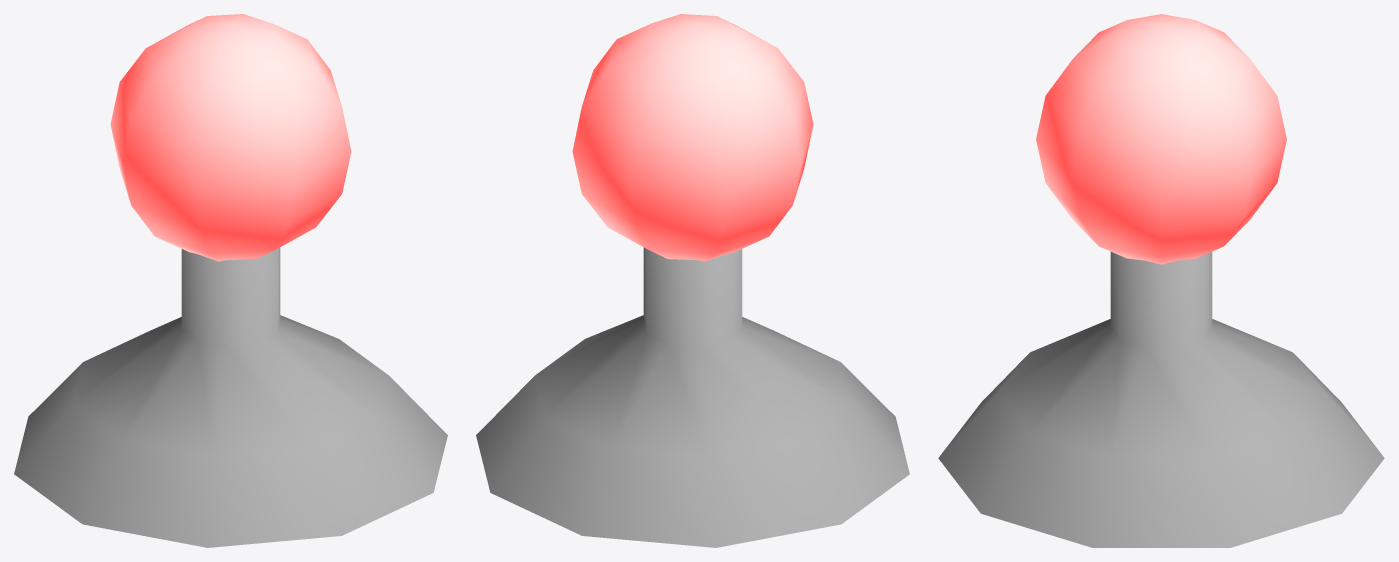
File: Antenna.fbx
3 views of the same model, side by side, from view 1: azimuth 30°, elevation 25°; view 2: azimuth 150°, elevation 25°; view 3: azimuth 270°, elevation 25° (orthographic).
Parts seen in each view (by area): view 1: Antenna, Blub; view 2: Antenna, Blub; view 3: Antenna, Blub.
Part boxes in pixels (x1,y1,x2,y2): Antenna: [14, 247, 447, 547]; Blub: [110, 14, 351, 261]; Antenna: [476, 247, 909, 547]; Blub: [572, 14, 813, 261]; Antenna: [938, 252, 1384, 547]; Blub: [1036, 14, 1286, 264].
Bounding box in the file's own units: 134 × 151 × 141.
